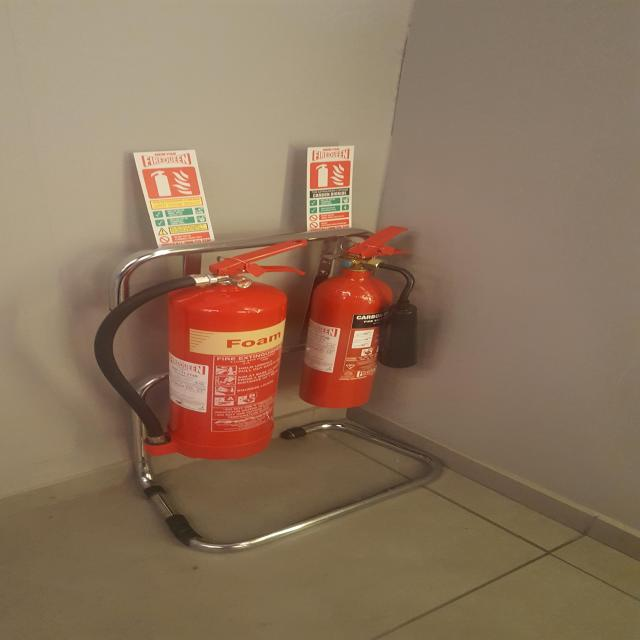fire_extinguisher: (88, 234, 316, 463), (294, 224, 430, 410)
